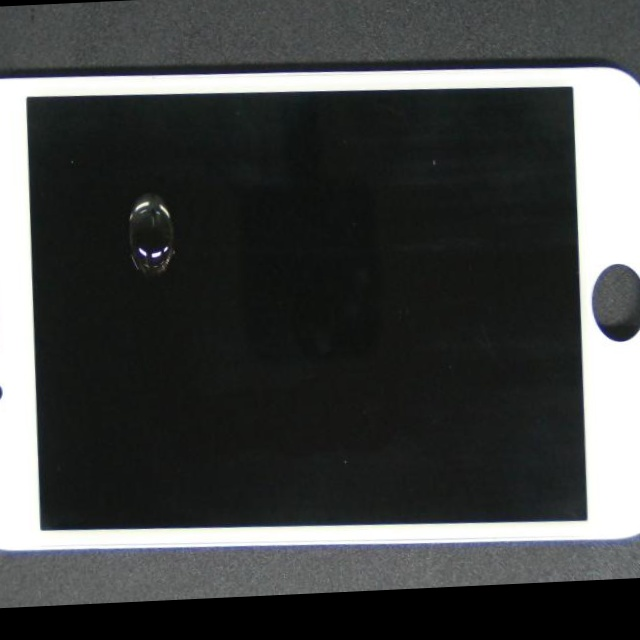oil: (49, 98, 285, 297)
